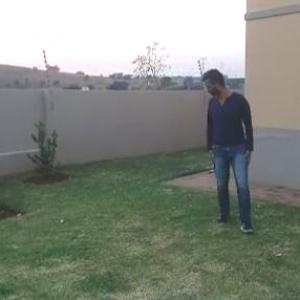follow: (205, 63, 261, 232)
